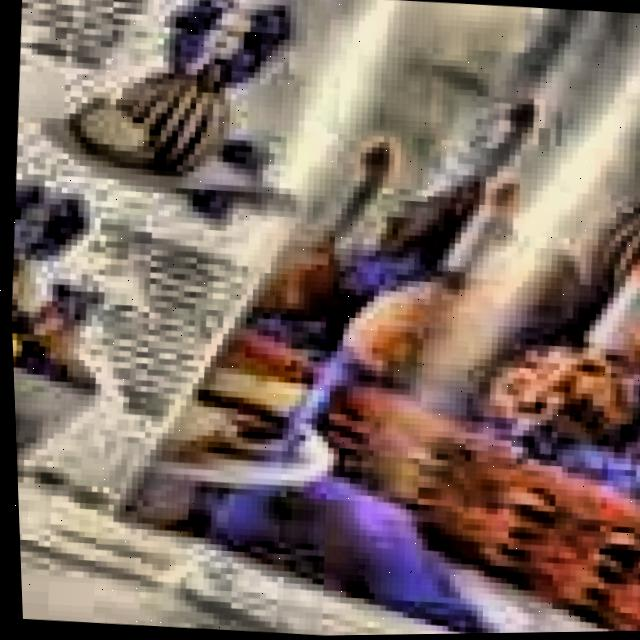paper: (9, 0, 640, 636)
